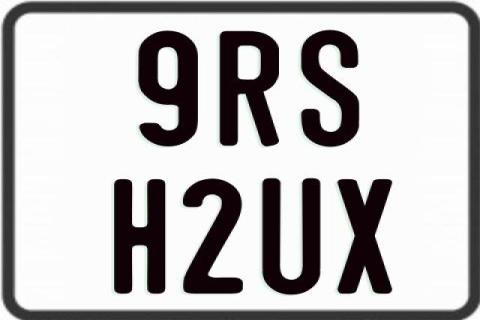0: (183, 177, 247, 293), (135, 30, 198, 146)
H: (112, 178, 165, 294)
R: (220, 29, 284, 148)
S: (300, 29, 360, 147)
U: (262, 178, 321, 294)
X: (334, 178, 390, 292)
